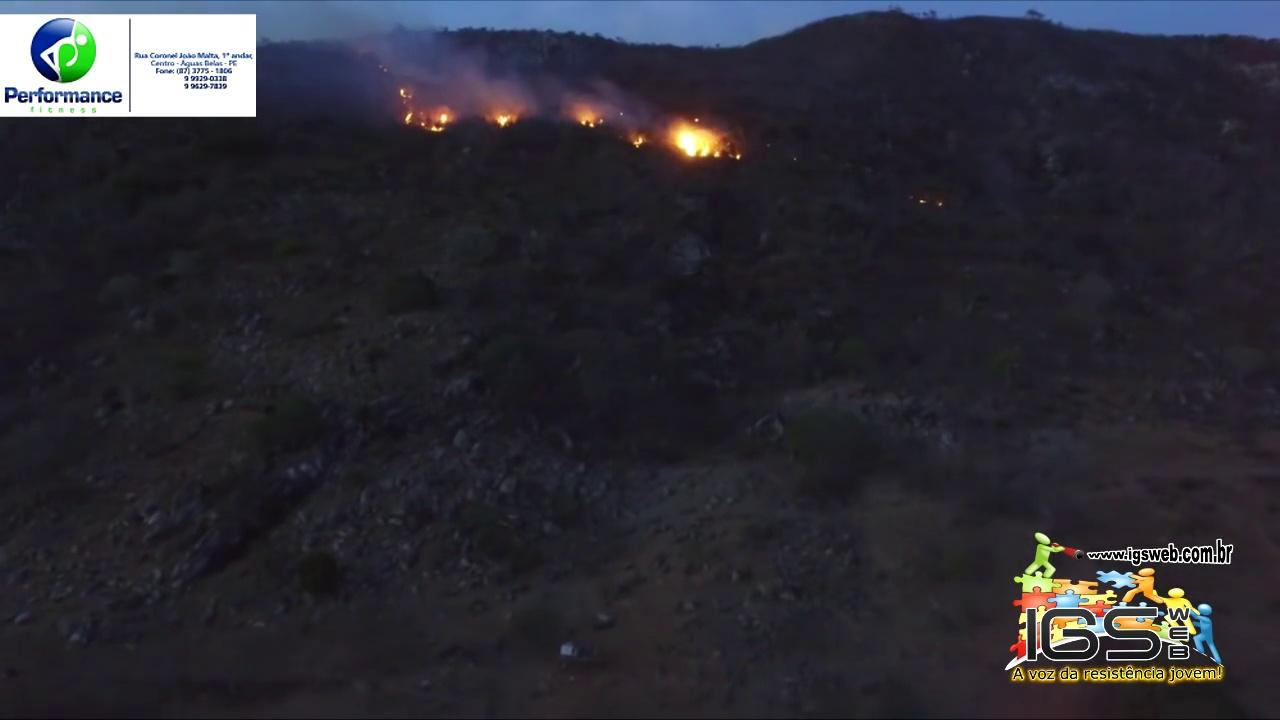fire: (670, 122, 722, 158), (568, 88, 598, 134), (402, 108, 456, 130)
